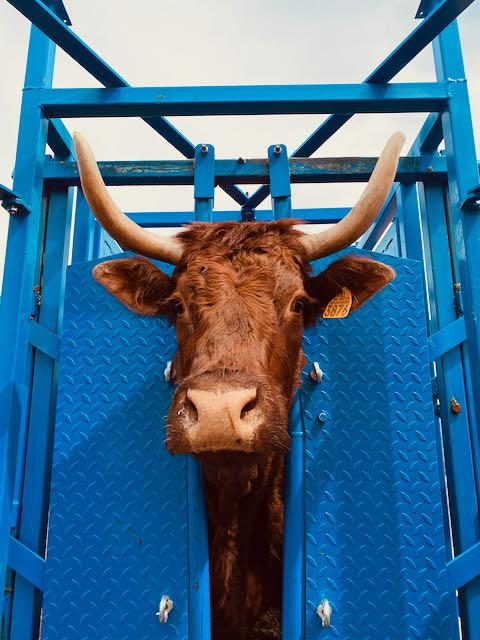muzzles: (159, 382, 299, 462)
